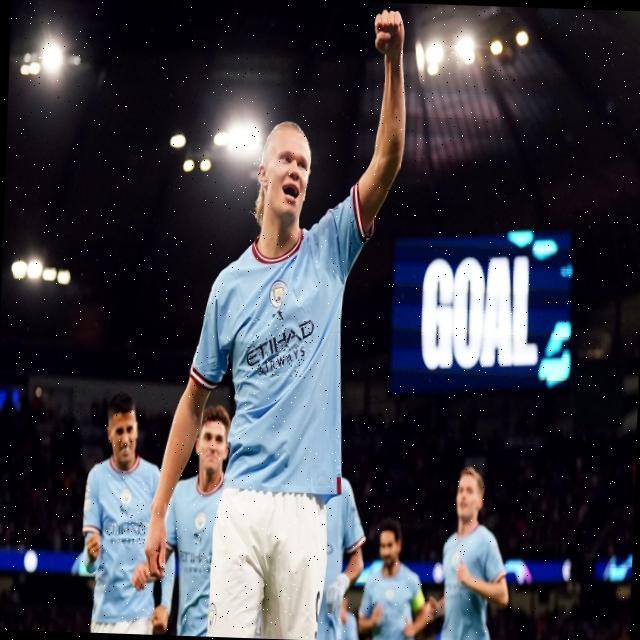Etihad Airways: (245, 317, 315, 378), (103, 520, 146, 545), (178, 548, 212, 576)
Puma: (270, 299, 286, 325), (118, 506, 133, 521), (192, 530, 205, 545)
